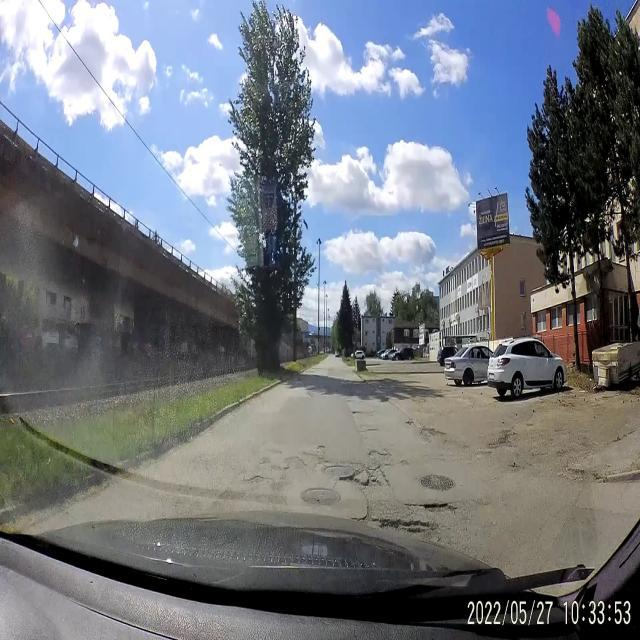Manhole: (298, 484, 342, 509), (418, 468, 457, 494), (320, 456, 356, 484)
Pothole: (370, 514, 430, 542), (356, 465, 390, 501), (414, 500, 458, 520), (243, 468, 270, 491), (418, 423, 448, 442), (366, 447, 394, 465), (286, 452, 304, 470), (348, 406, 366, 419), (399, 456, 412, 472), (406, 413, 416, 433), (315, 441, 328, 455)
